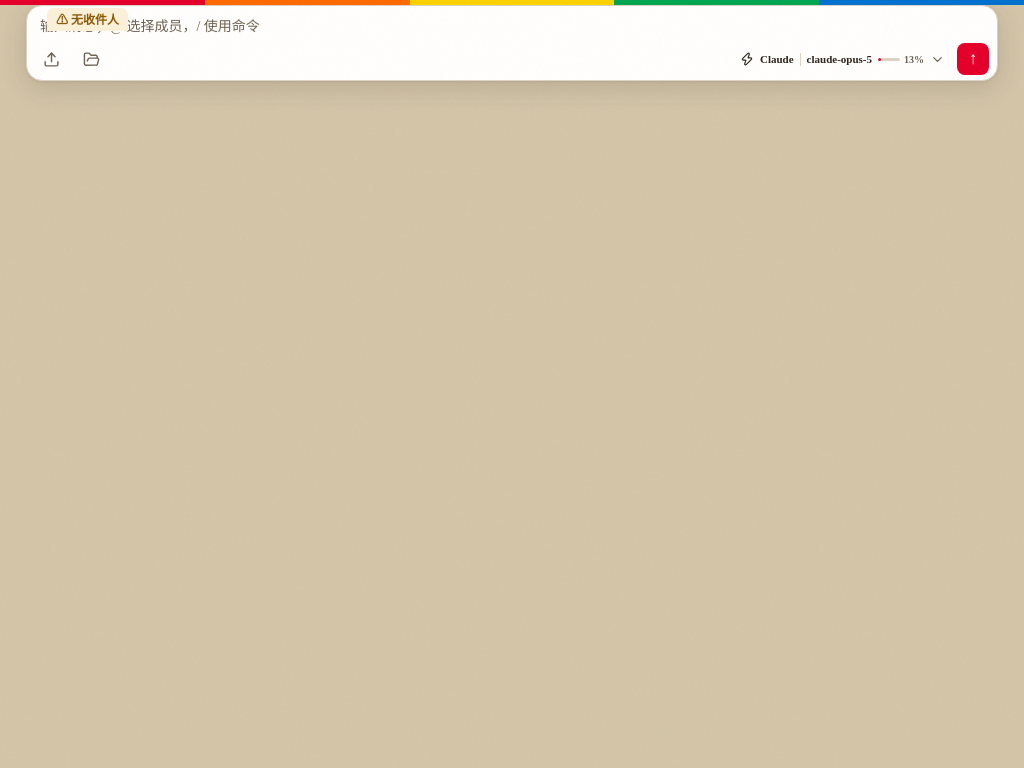
Test: Model/Effort 选择器（渲染 Composer 内的 ModelSelector） › 无 selections 但 context 有 model 时显示只读状态，不伪造配置项
Expected: the text "claude-opus-5" is shown, left=807, top=53, right=872, bottom=65
Step 1. Click the button with aria-label "Claude，模型 claude-opus-5" → (842, 59), box left=732, top=44, right=953, bottom=74
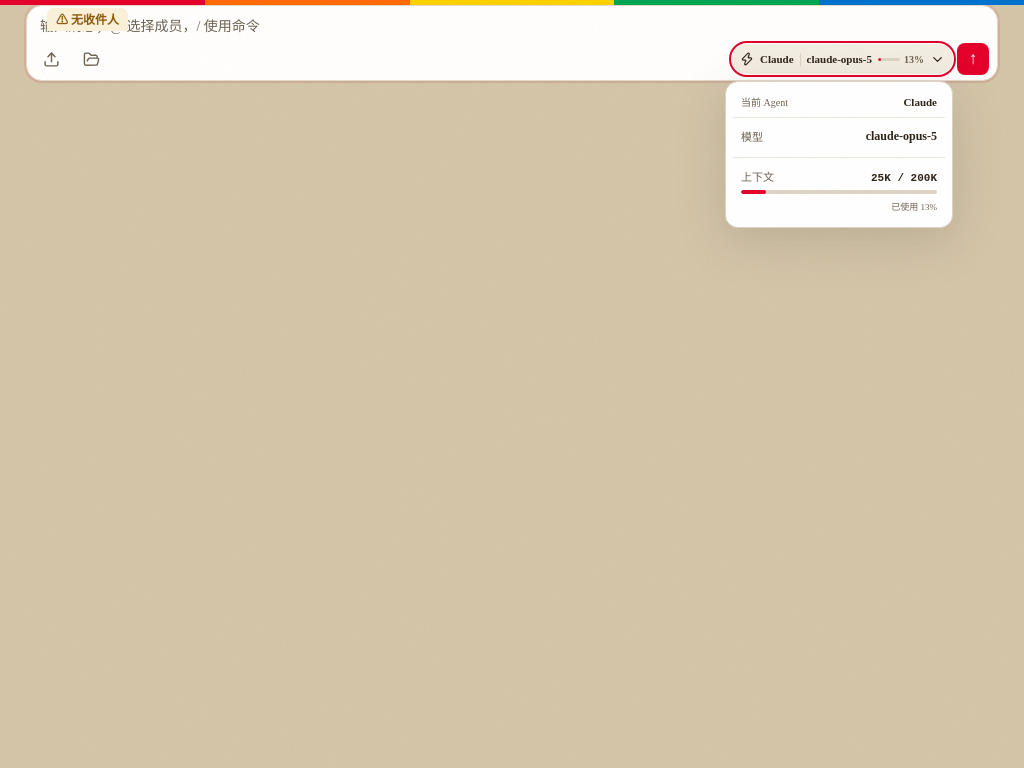
Expected: the dialog named "Claude Agent 状态" is shown, left=725, top=81, right=953, bottom=228
